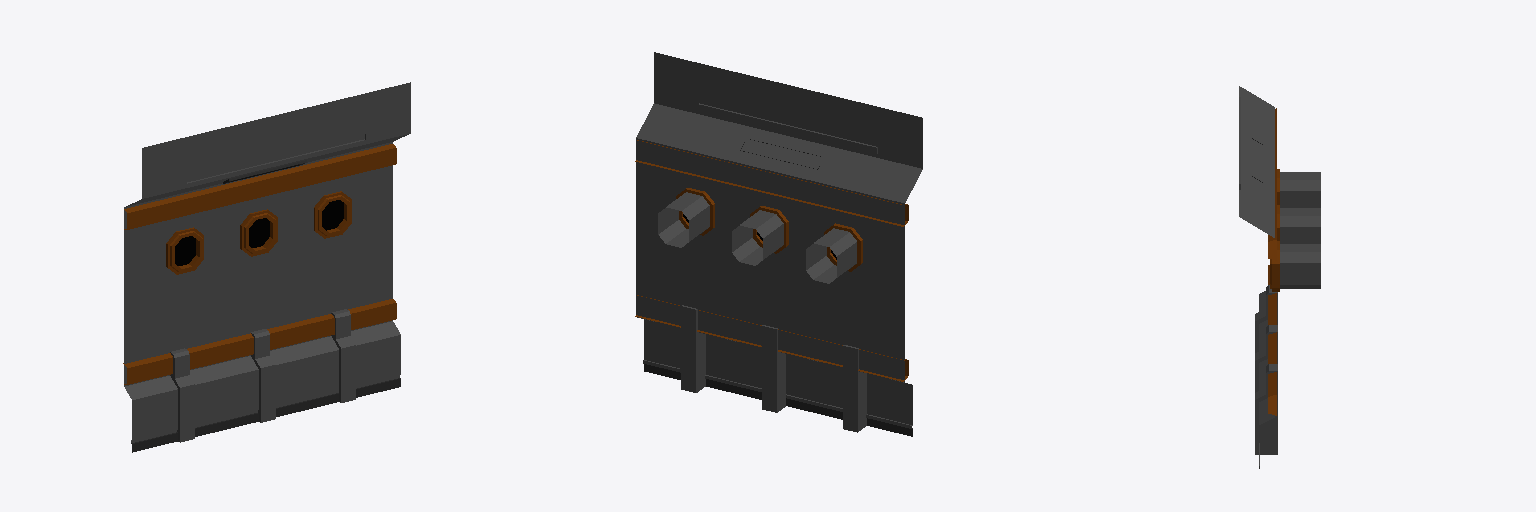
The model's file is SmallWindows_Wall_SideA.obj.
3 renders of one model, left to right at view 1: azimuth 30°, elevation 25°; view 2: azimuth 150°, elevation 25°; view 3: azimuth 270°, elevation 25°, orthographic.
Parts seen in each view (by area): view 1: SmallWindows_Wall_SideA_Plane.038; view 2: SmallWindows_Wall_SideA_Plane.038; view 3: SmallWindows_Wall_SideA_Plane.038.
Part boxes in pixels (x1,y1,x2,y2): SmallWindows_Wall_SideA_Plane.038: (123,82,410,452); SmallWindows_Wall_SideA_Plane.038: (635,52,922,436); SmallWindows_Wall_SideA_Plane.038: (1239,86,1320,468).
Bounding box in the file's own units: 4 × 4.43 × 1.06.